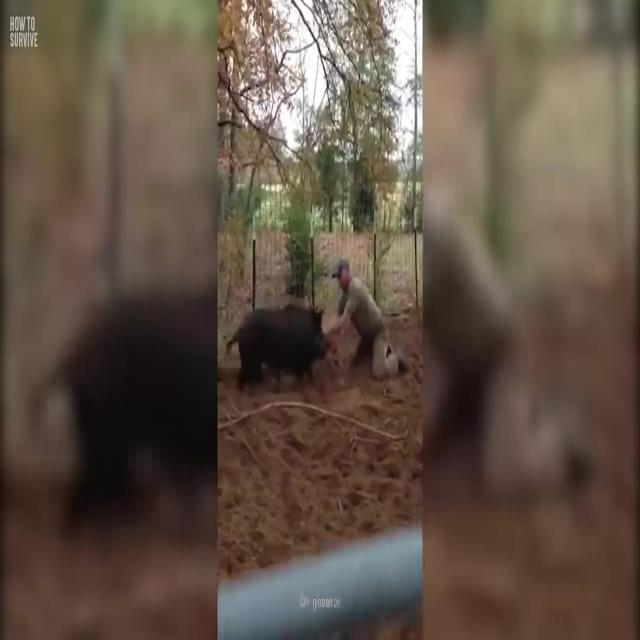pig: (224, 263, 338, 432)
